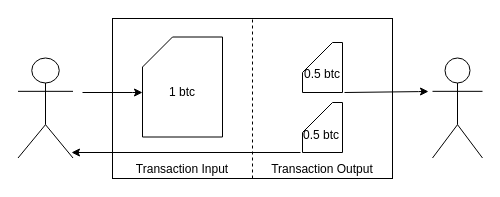
Image size: 500x197. Some labels were removed from this diagram. Each missing label, with the box of its shape:
Alice: (432, 57, 482, 158)
Bob: (17, 57, 73, 158)
